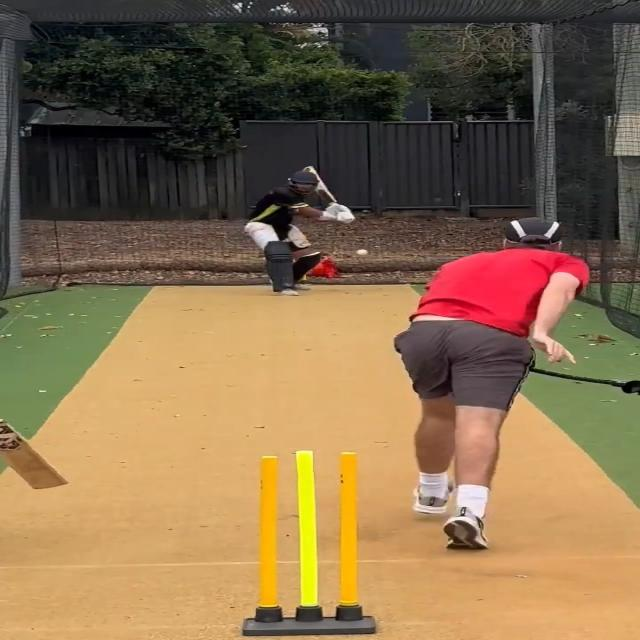ball: (353, 248, 369, 257)
stump: (240, 448, 376, 637)
